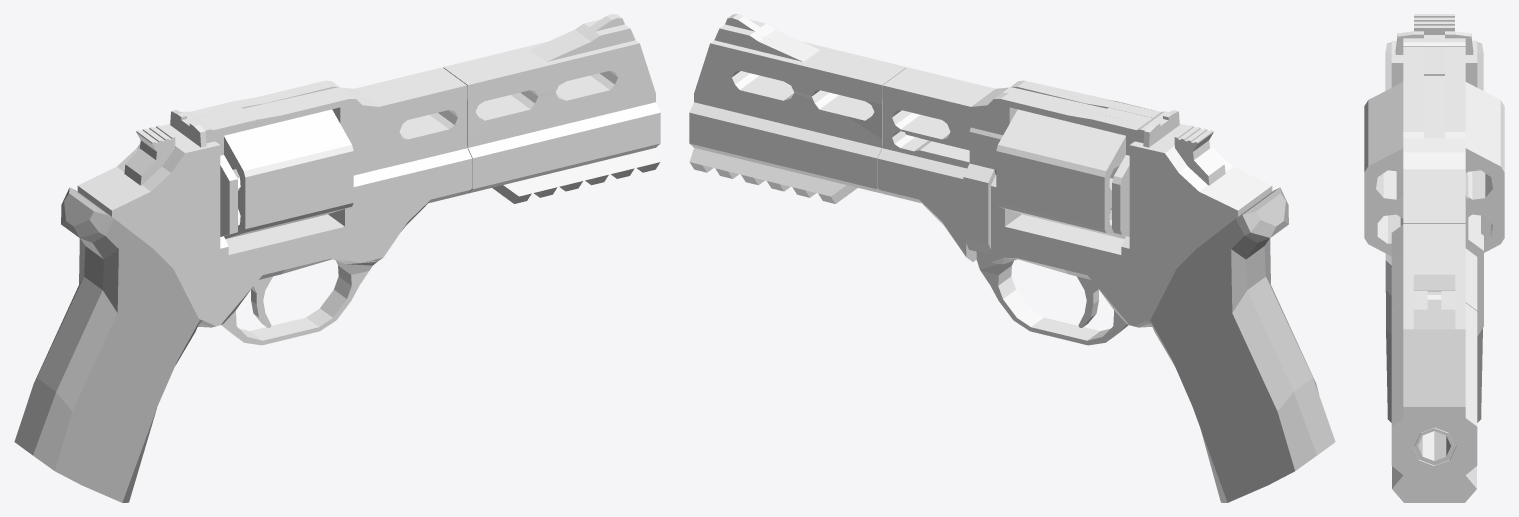
The model's file is Chiappa Rhino.fbx.
3 renders of one model, left to right at view 1: azimuth 30°, elevation 25°; view 2: azimuth 150°, elevation 25°; view 3: azimuth 270°, elevation 25°, orthographic. The views are drawn at different scales.
Parts seen in each view (by area): view 1: Base, Cylinder, Hammer; view 2: Base, Cylinder, Ejector, Hammer; view 3: Base, Cylinder, Ejector, Hammer.
Part boxes in pixels (x1=…): Base: x1=14, y1=14, x2=660, y2=502; Cylinder: x1=224, y1=109, x2=353, y2=239; Hammer: x1=124, y1=125, x2=175, y2=185; Base: x1=689, y1=14, x2=1335, y2=502; Cylinder: x1=996, y1=109, x2=1125, y2=239; Ejector: x1=905, y1=127, x2=1002, y2=254; Hammer: x1=1174, y1=125, x2=1225, y2=185; Base: x1=1369, y1=31, x2=1483, y2=502; Cylinder: x1=1364, y1=82, x2=1504, y2=256; Ejector: x1=1465, y1=172, x2=1483, y2=336; Hammer: x1=1414, y1=14, x2=1454, y2=34.
Size of the model in its own units: 84.79 by 46.99 by 13.26.
